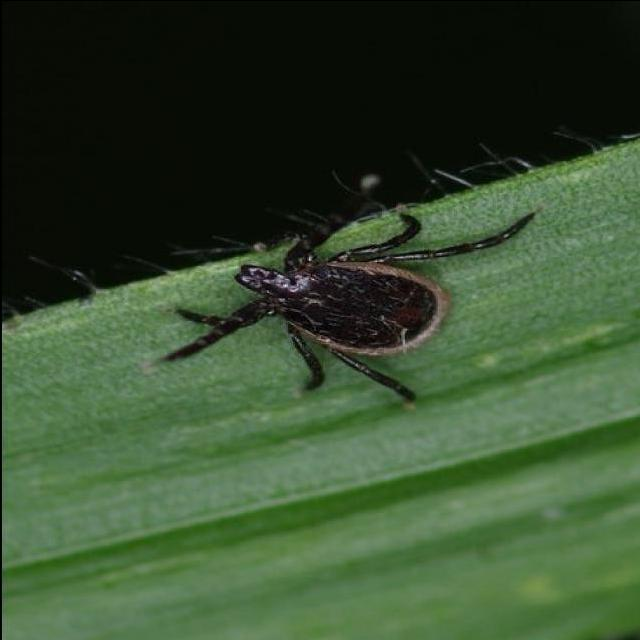Ixodes Ricinus-M: (153, 211, 532, 407)
